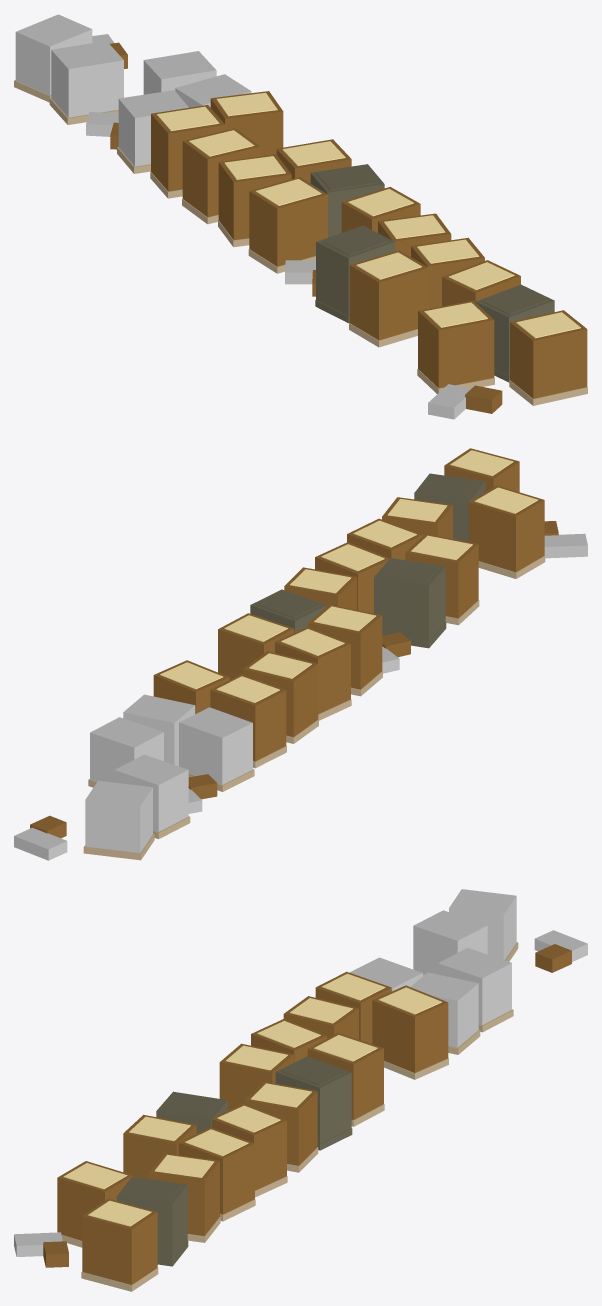
File: SM_CargaViveres_Danado_LOD1.fbx
3 renders of one model, top to bottom at view 1: azimuth 30°, elevation 25°; view 2: azimuth 150°, elevation 25°; view 3: azimuth 330°, elevation 25°, orthographic. The views are drawn at different scales.
Parts seen in each view (by area): view 1: SM_carga_vagon_v18_LOD1; view 2: SM_carga_vagon_v18_LOD1; view 3: SM_carga_vagon_v18_LOD1.
Part boxes in pixels (x1=…): SM_carga_vagon_v18_LOD1: x1=14, y1=14, x2=587, y2=419; SM_carga_vagon_v18_LOD1: x1=14, y1=448, x2=587, y2=860; SM_carga_vagon_v18_LOD1: x1=14, y1=889, x2=587, y2=1291.
Bounding box in the file's own units: 3.28 × 1.4 × 18.71.
